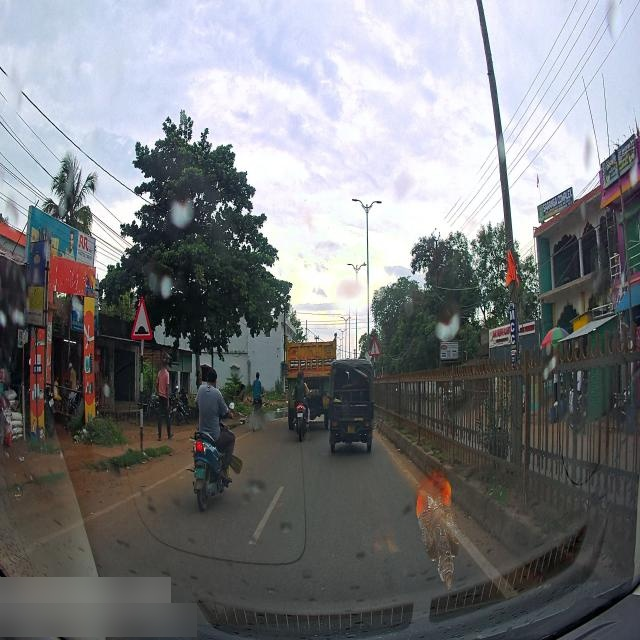pothole: (262, 404, 288, 423)
